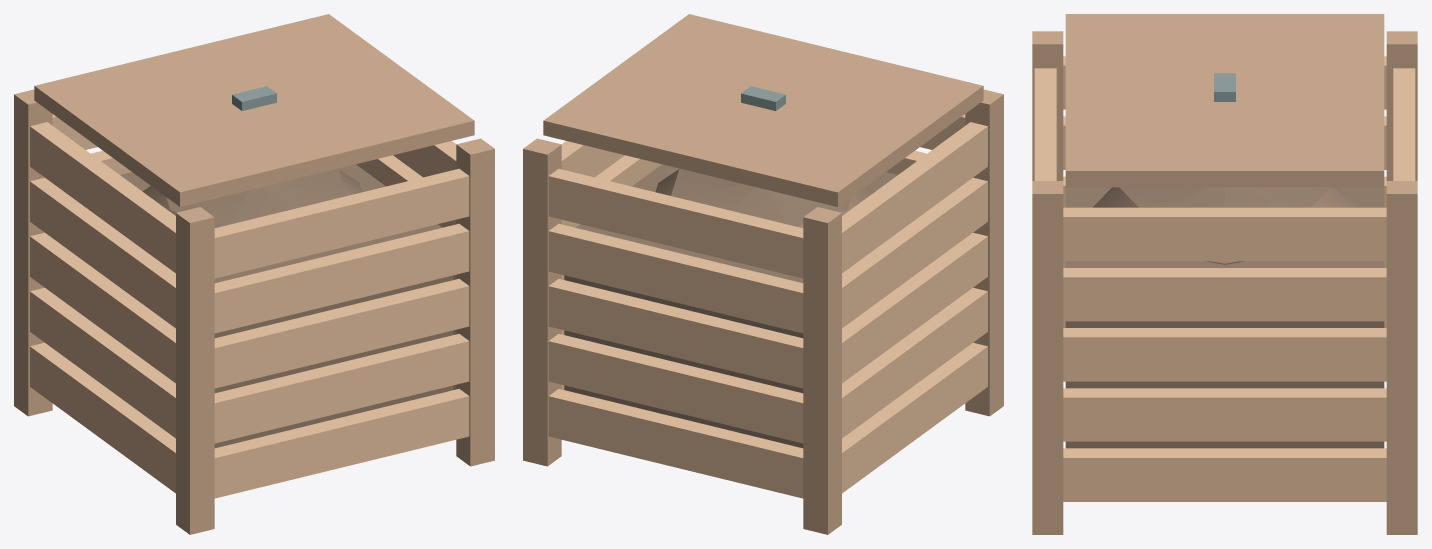
Rendered from gardenCompost.glb.
3 renders of one model, left to right at view 1: azimuth 30°, elevation 25°; view 2: azimuth 150°, elevation 25°; view 3: azimuth 270°, elevation 25°, orthographic. The views are drawn at different scales.
Parts seen in each view (by area): view 1: gardenCompost; view 2: gardenCompost; view 3: gardenCompost.
Boxes of the visible parts, <box> form: gardenCompost: <box>14,14,494,534</box>; gardenCompost: <box>523,14,1003,534</box>; gardenCompost: <box>1032,14,1417,534</box>.
Size of the model in its own units: 0.435 by 0.4625 by 0.435.
